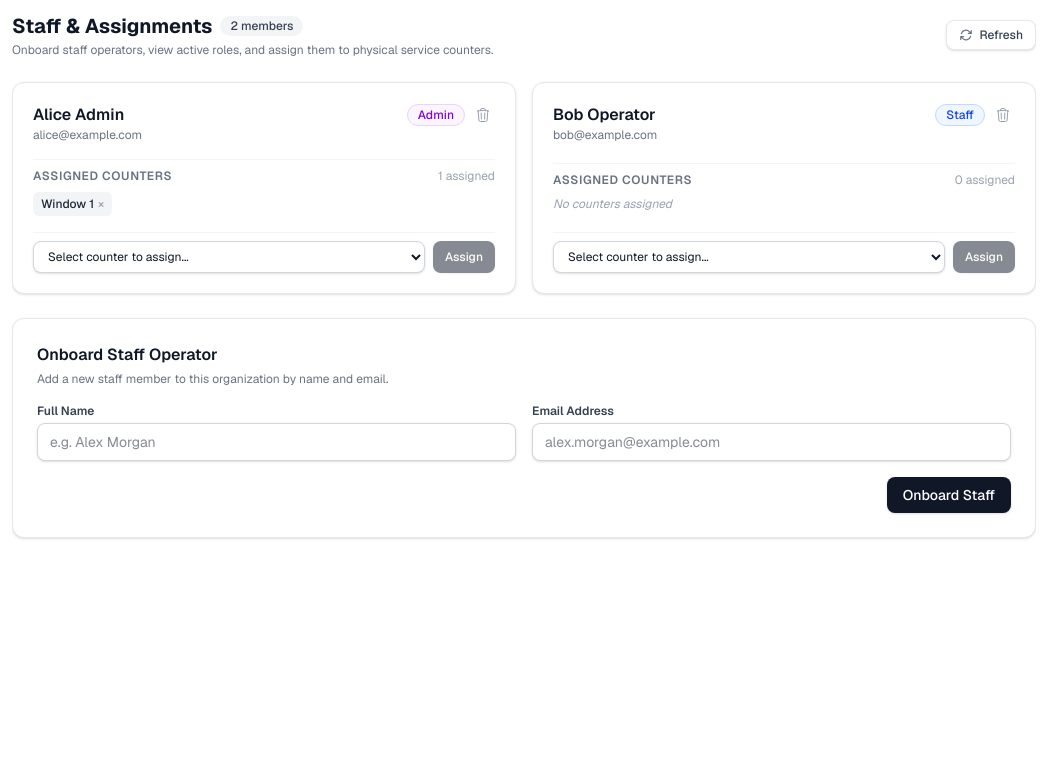
Test: StaffManagement › Counter Assignment & Unassignment › displays error alert when assigning counter fails with 409 duplicate assignment
The width and height of the screenshot is (1048, 780).
Expected: the heading "Bob Operator" is shown, [553,103,657,127]
Select "Window 2" in the dropdown named "select counter to assign to bob operator": (749, 257) [553,241,945,273]
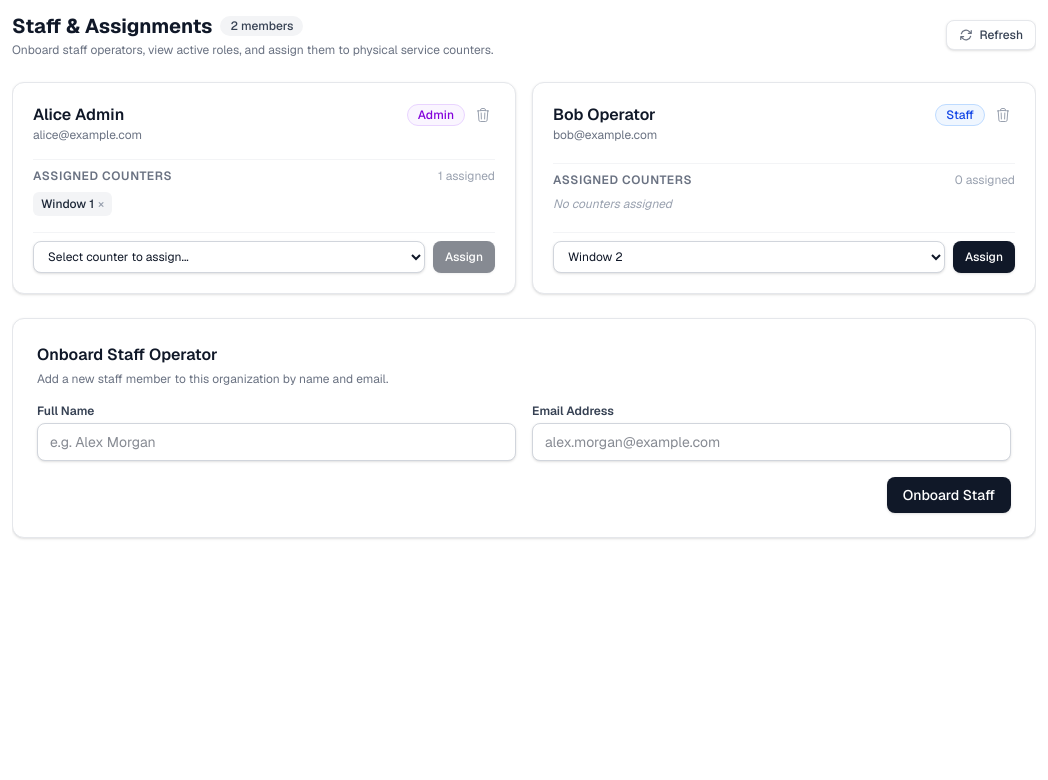
Click the 2nd button "Assign": (984, 257) [953,241,1015,273]
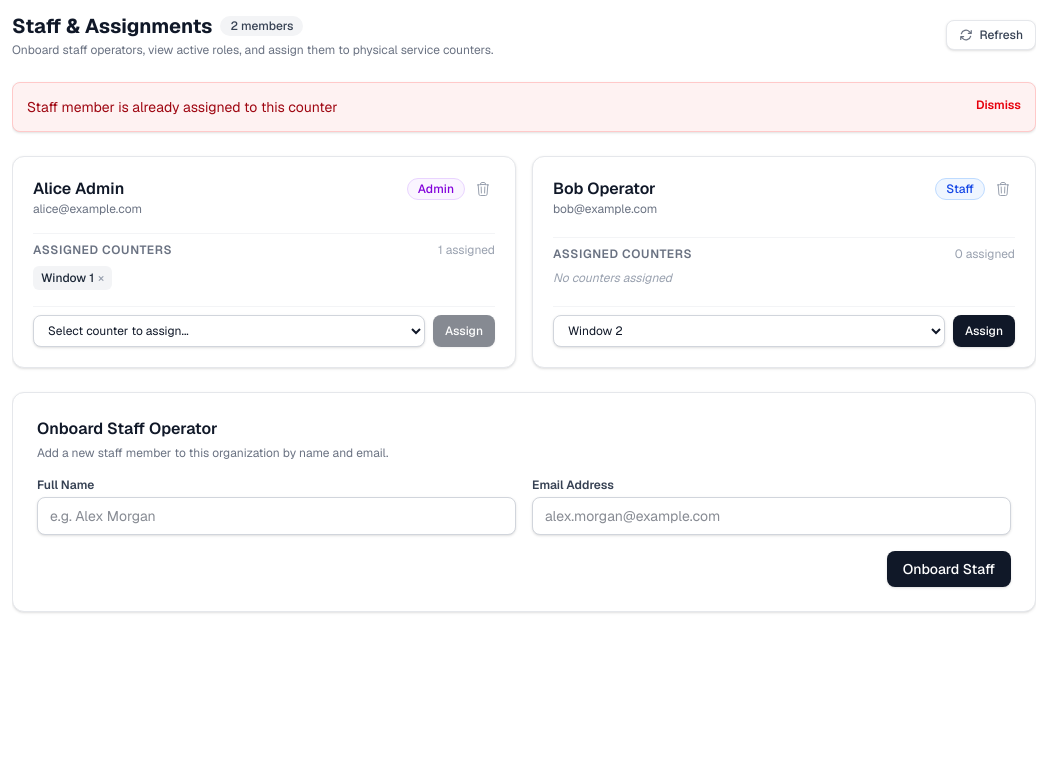
Now the message shows "Staff member is already assigned to this counter", box [27,98,338,116]
